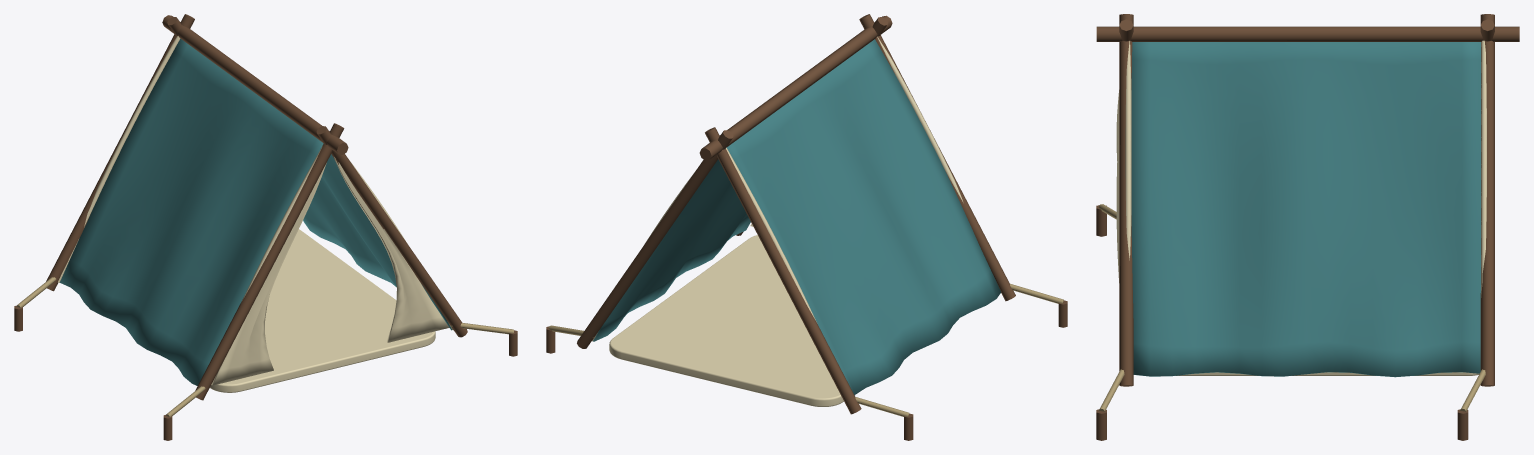
Rendered from explorer_tent_atelier.glb.
3 renders of one model, left to right at view 1: azimuth 30°, elevation 25°; view 2: azimuth 150°, elevation 25°; view 3: azimuth 270°, elevation 25°, orthographic. The views are drawn at different scales.
Visible parts, largest first — view 1: explorer_tent_atelier__WovenClothExplorerTeal, explorer_tent_atelier__WovenClothCreamDoor, explorer_tent_atelier__TaggedPainted_explorer_tent_atelier_M; view 2: explorer_tent_atelier__WovenClothExplorerTeal, explorer_tent_atelier__WovenClothCreamDoor, explorer_tent_atelier__TaggedPainted_explorer_tent_atelier_M; view 3: explorer_tent_atelier__WovenClothExplorerTeal, explorer_tent_atelier__TaggedPainted_explorer_tent_atelier_M, explorer_tent_atelier__WovenClothCreamDoor.
Part boxes in pixels (x1,y1,x2,y2): explorer_tent_atelier__WovenClothExplorerTeal: (60, 38, 452, 385); explorer_tent_atelier__WovenClothCreamDoor: (58, 36, 453, 392); explorer_tent_atelier__TaggedPainted_explorer_tent_atelier_M: (14, 14, 517, 440); explorer_tent_atelier__WovenClothExplorerTeal: (593, 39, 1001, 395); explorer_tent_atelier__WovenClothCreamDoor: (592, 36, 963, 406); explorer_tent_atelier__TaggedPainted_explorer_tent_atelier_M: (546, 14, 1067, 440); explorer_tent_atelier__WovenClothExplorerTeal: (1131, 42, 1480, 377); explorer_tent_atelier__TaggedPainted_explorer_tent_atelier_M: (1096, 14, 1519, 440); explorer_tent_atelier__WovenClothCreamDoor: (1116, 40, 1486, 375).
Bounding box in the file's own units: 2.81 × 2 × 2.4.
